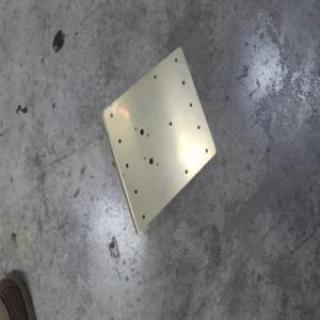MetalSheettrack_idkeyframe: (98, 43, 216, 237)
